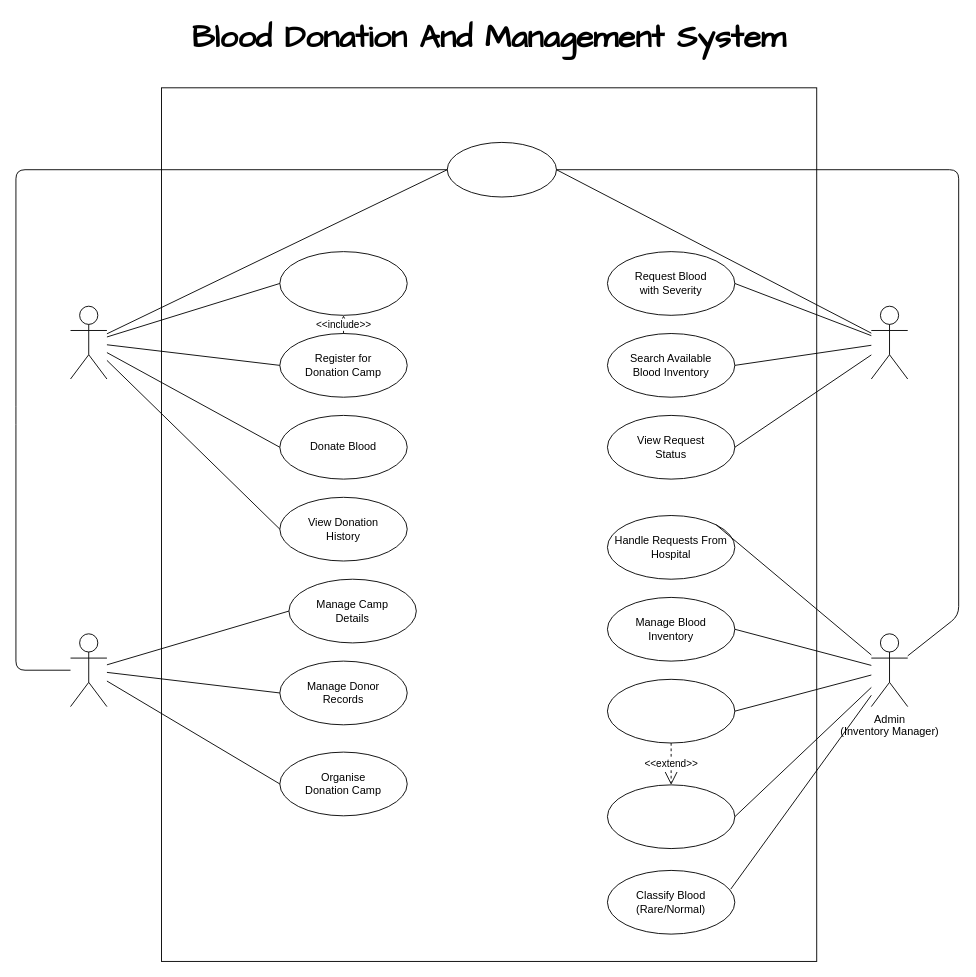
Some shapes in this 976 by 977 pixel diagram are drawn without their labels. Here are the shapes that lost their labels. From the top down, the centre of each, then its label:
[501,169]: Register/Login
[343,283]: View Available Donation Camps
[88,342]: Donor
[889,342]: Hospital
[88,670]: Organiser
[671,710]: Monitor Stock Levels
[671,816]: Generate Low Stock Alerts
